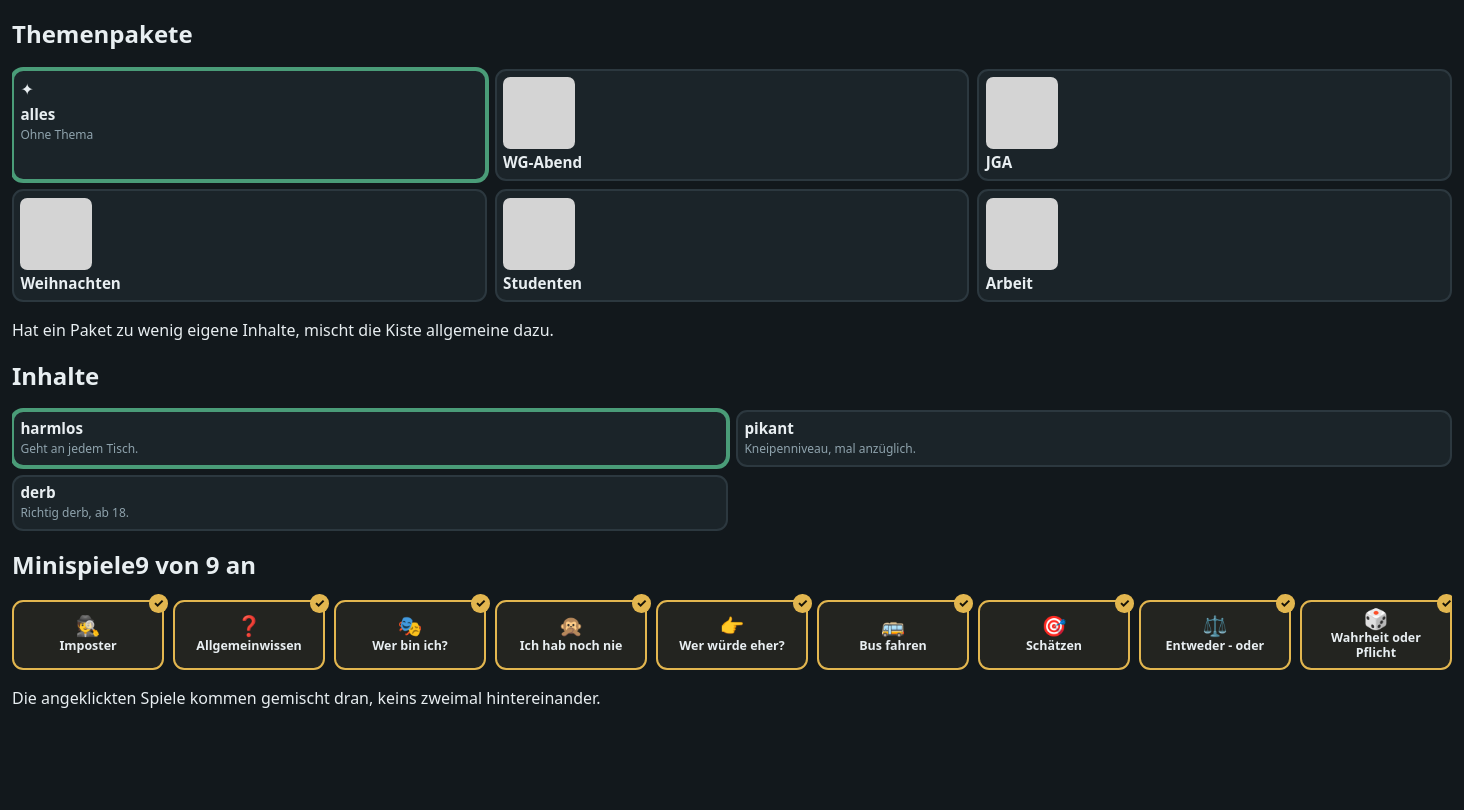
Test: Auswahl im Menue der Partykiste › im neuen Hub: Regelkacheln mit Haken, „Alle an“ nur, wenn nicht alle an sind
Expected: the element named "Minispiele" is shown, [12, 600, 1452, 670]
Expected: the button "Alle an" is not shown
Click the button "❓ Allgemeinwissen ✓": (249, 635) [173, 600, 325, 670]
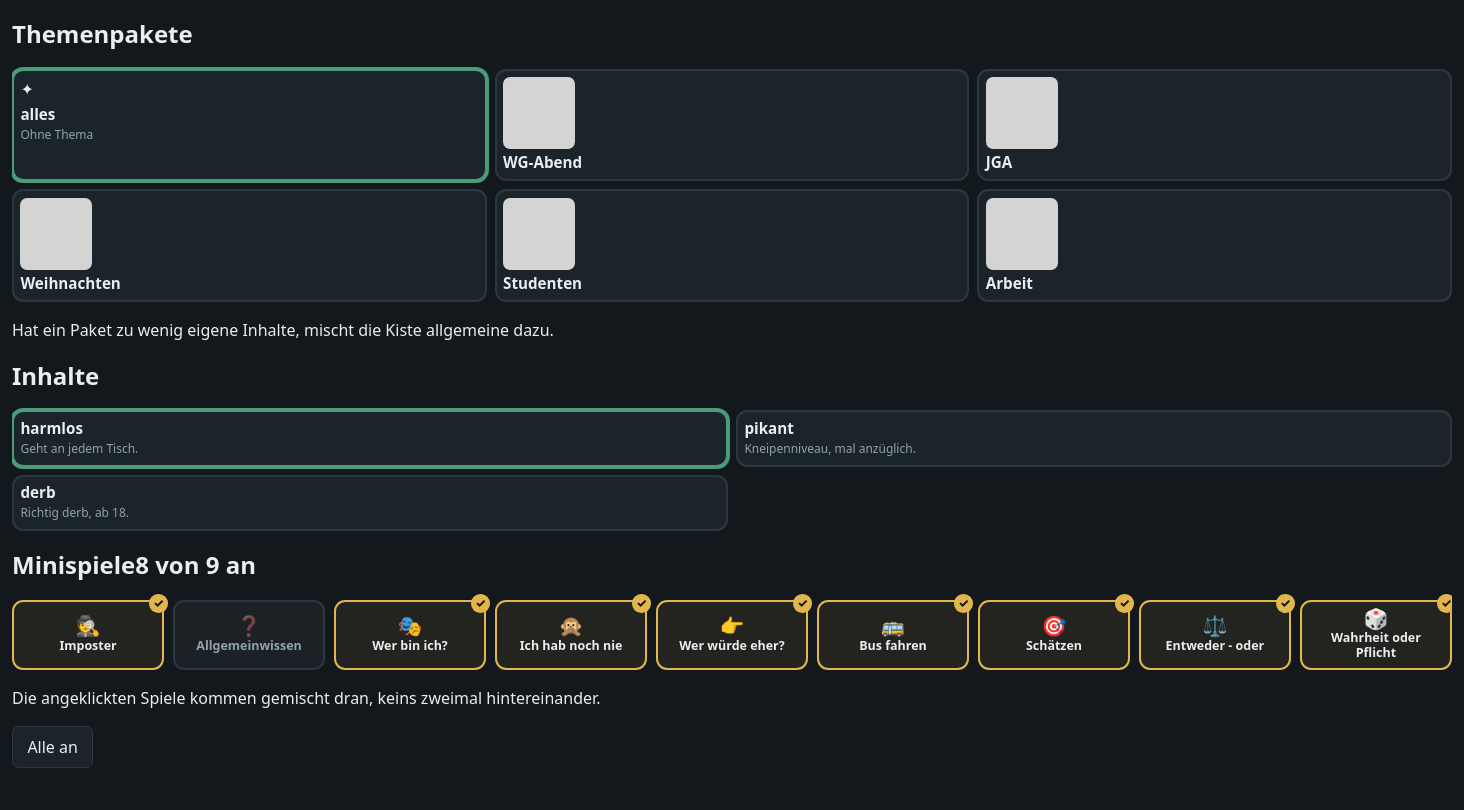
Expected: the text "gemischt dran, keins zweimal hintereinander" is shown, [12, 687, 600, 709]
Expected: the button "❓ Allgemeinwissen" is not pressed, [173, 600, 325, 670]
Expected: the button "❓ Allgemeinwissen" does not have class "is-on", [173, 600, 325, 670]
Click the button "Alle an": (53, 747) [12, 726, 93, 768]
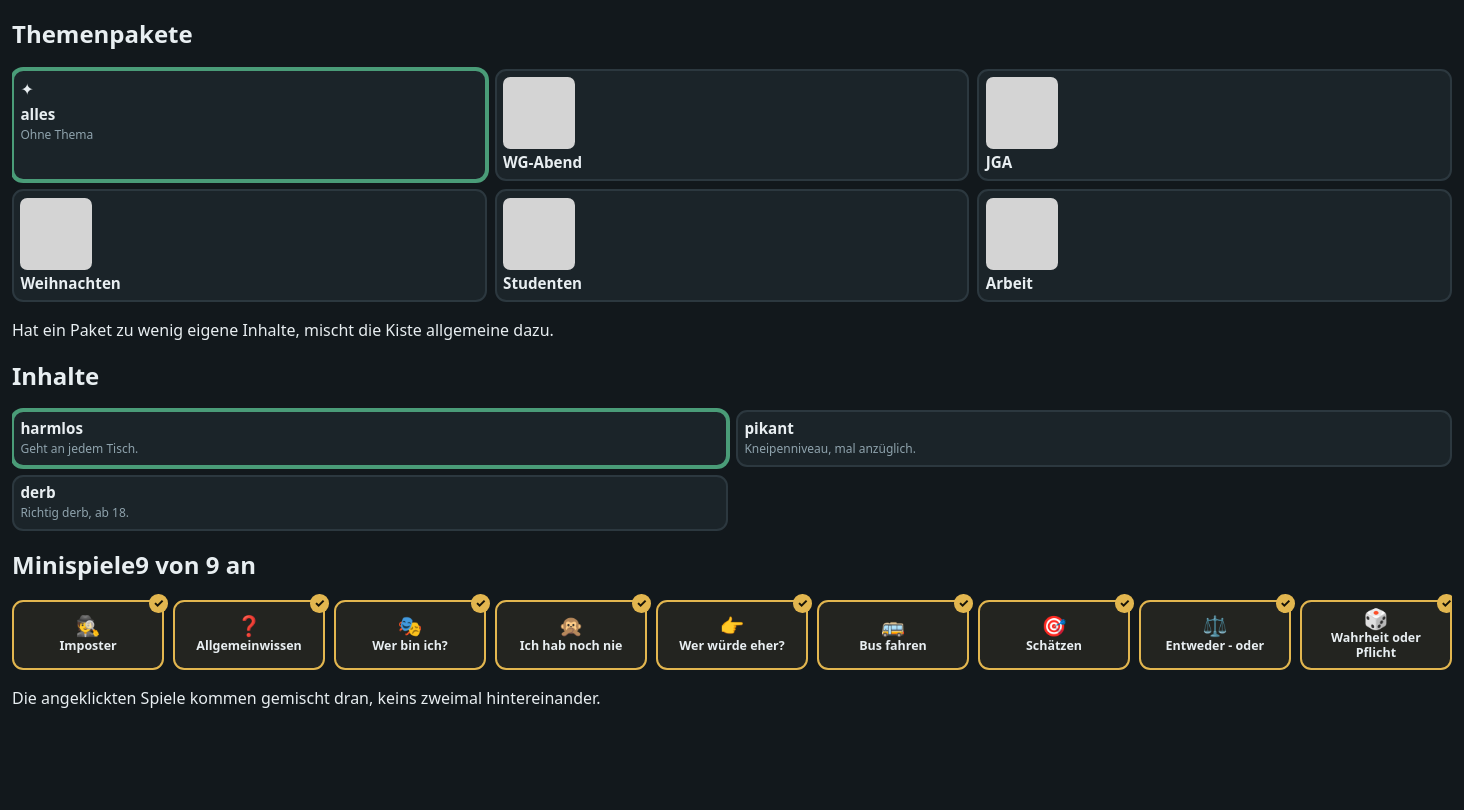
Expected: the button "Alle an" is gone
